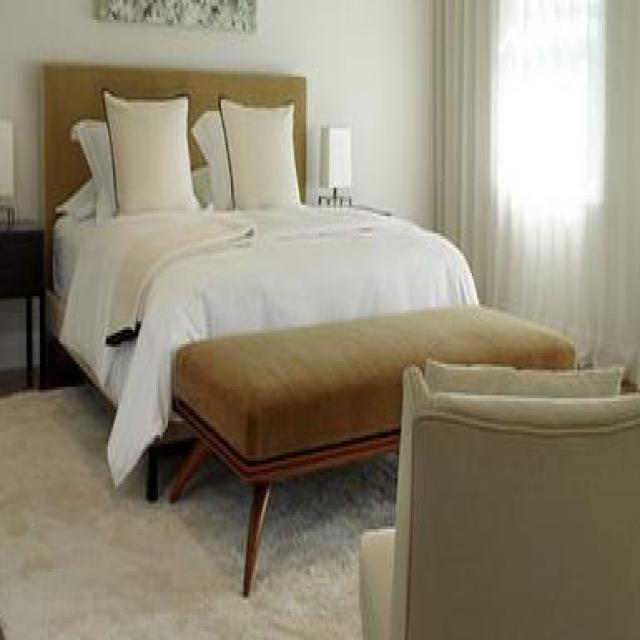bed: (39, 64, 544, 598)
